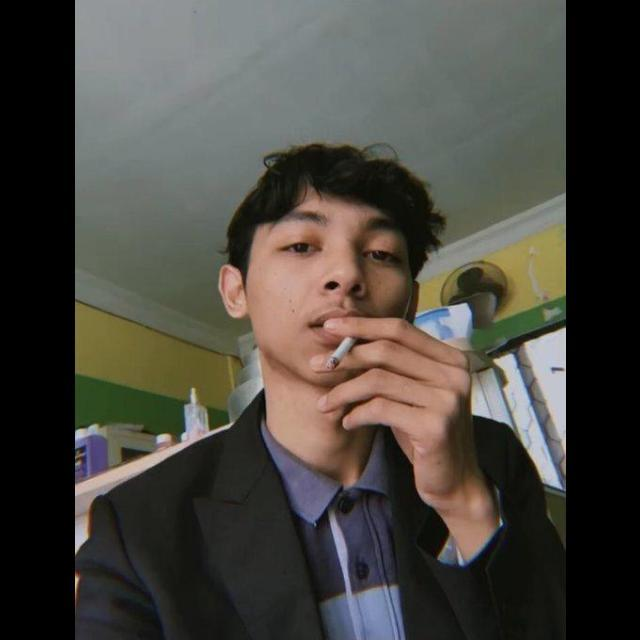rokok: (325, 332, 359, 372)
